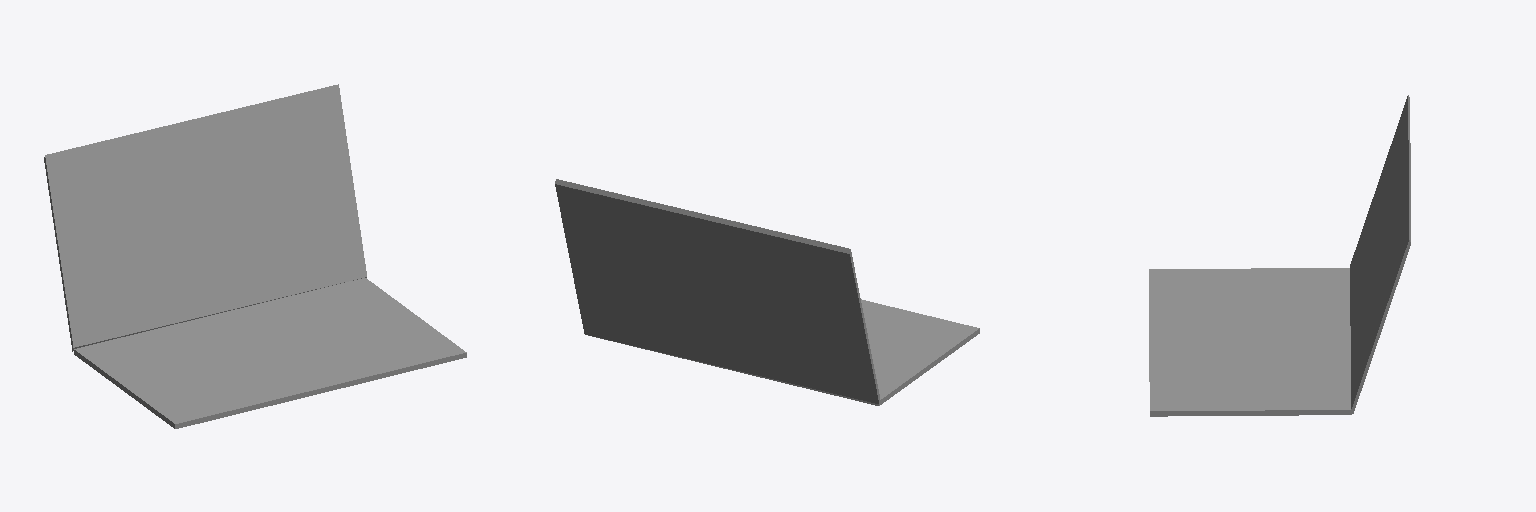
Rendered from host.obj.
3 views of the same model, side by side, from view 1: azimuth 30°, elevation 25°; view 2: azimuth 150°, elevation 25°; view 3: azimuth 270°, elevation 25° (orthographic).
Visible parts, largest first — view 1: Cube; view 2: Cube; view 3: Cube.
Part boxes in pixels (x1,y1,x2,y2): Cube: (44, 84, 466, 428); Cube: (555, 179, 979, 405); Cube: (1149, 95, 1410, 416).
Bounding box in the file's own units: 1.88 × 1.09 × 1.45.